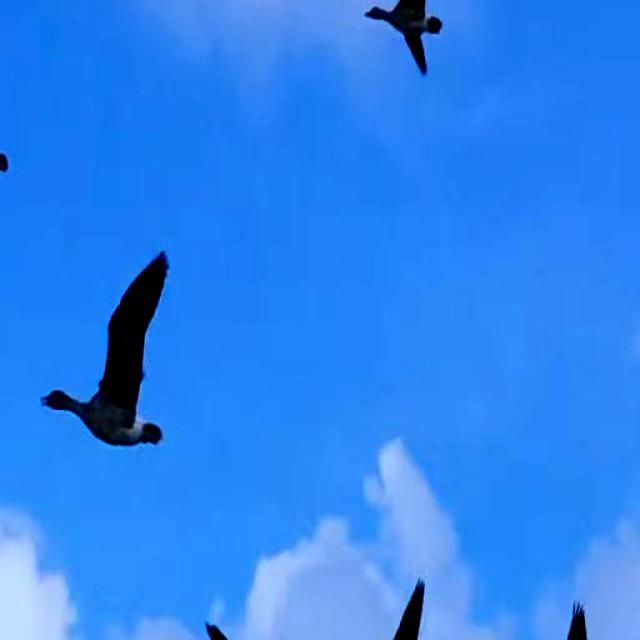airplane: (40, 252, 179, 458), (362, 0, 456, 79), (349, 576, 434, 640), (521, 596, 599, 640)
